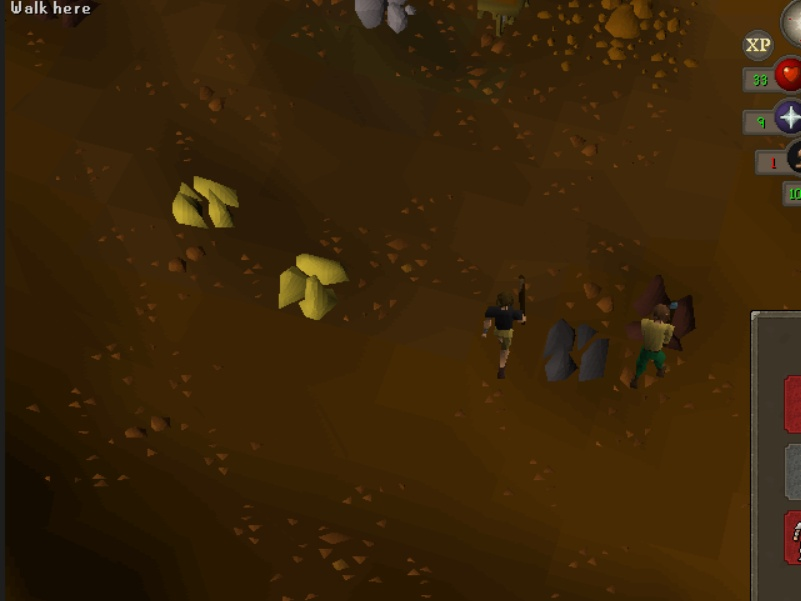gold: (160, 165, 252, 241), (268, 244, 360, 320)
iron: (633, 267, 709, 358)
